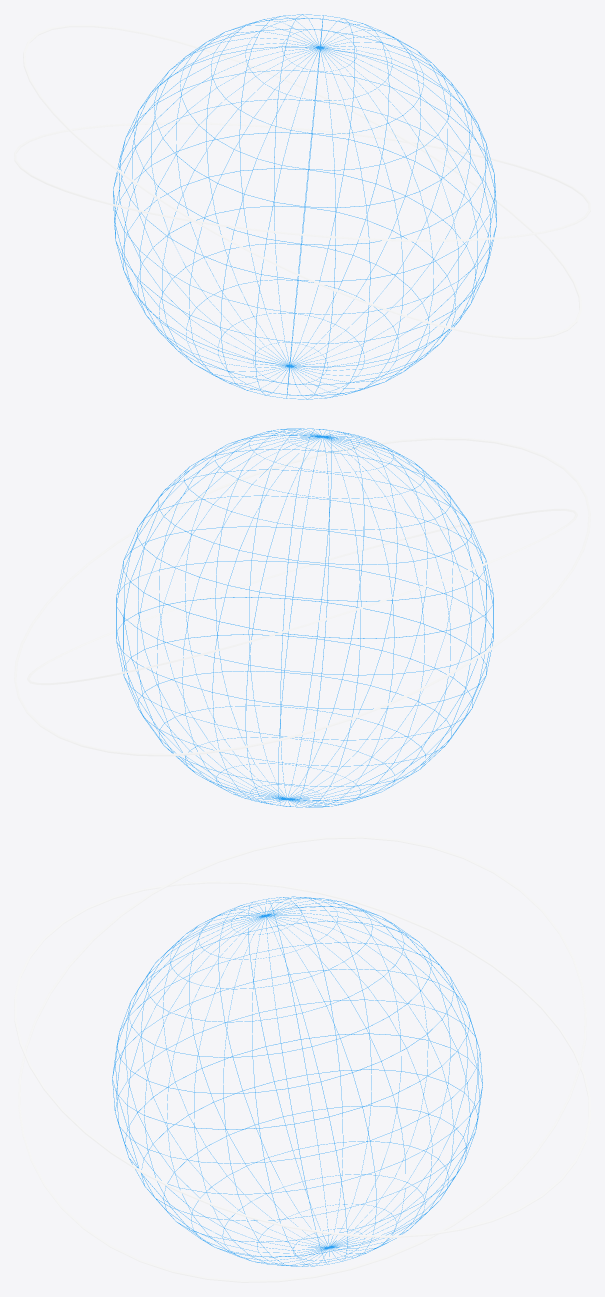
File: earth2.glb
The picture shows the model from 3 angles, top to bottom: view 1: azimuth 30°, elevation 25°; view 2: azimuth 150°, elevation 25°; view 3: azimuth 270°, elevation 25°; orthographic projection. The views are drawn at different scales.
Visible parts, largest first — view 1: Sphere, ring1, ring2; view 2: Sphere, ring2, ring1; view 3: Sphere, ring1, ring2.
Boxes of the visible parts, <box> form: Sphere: <box>113,14,496,399</box>; ring1: <box>23,24,581,339</box>; ring2: <box>14,122,590,241</box>; Sphere: <box>116,428,493,807</box>; ring2: <box>14,437,590,756</box>; ring1: <box>27,508,577,685</box>; Sphere: <box>112,896,482,1266</box>; ring1: <box>18,836,586,1282</box>; ring2: <box>14,881,590,1237</box>.
Size of the model in its own units: 14.89 by 10 by 15.56.
